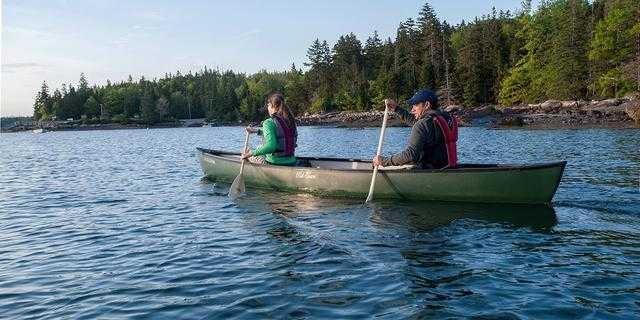kayak: (194, 147, 567, 204)
